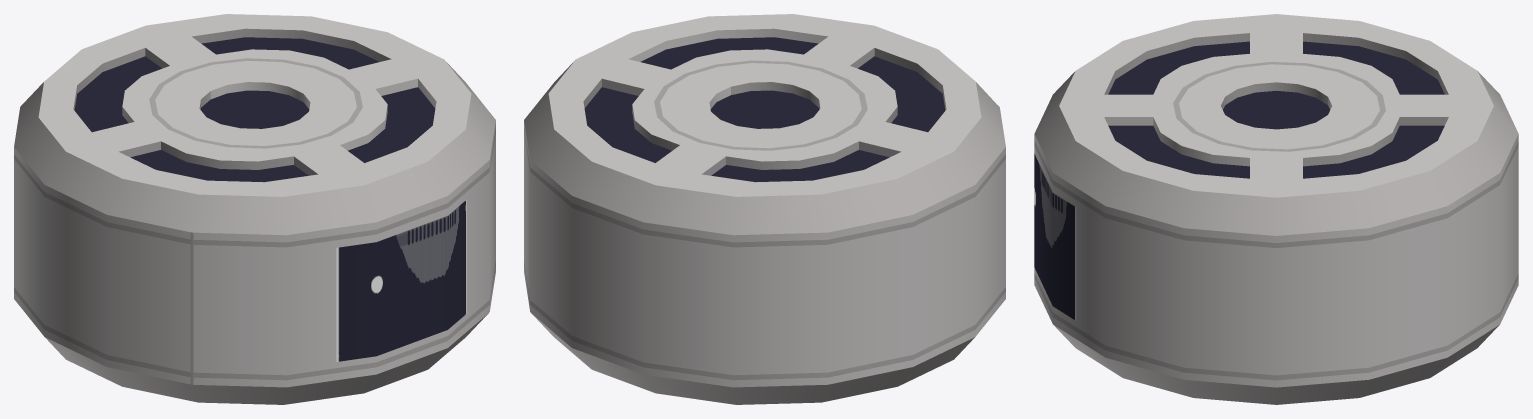
Rendered from house5.fbx.
3 views of the same model, side by side, from view 1: azimuth 30°, elevation 25°; view 2: azimuth 150°, elevation 25°; view 3: azimuth 270°, elevation 25° (orthographic).
Parts seen in each view (by area): view 1: house5; view 2: house5; view 3: house5.
Part boxes in pixels (x1,y1,x2,y2): house5: [14, 14, 495, 404]; house5: [524, 14, 1005, 404]; house5: [1034, 14, 1518, 404].
Size of the model in its own units: 8.4 by 3.97 by 8.4.
